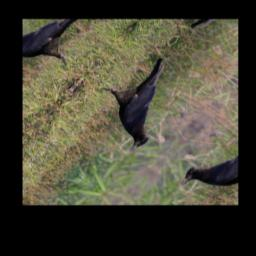Crow: (72, 43, 204, 156)
